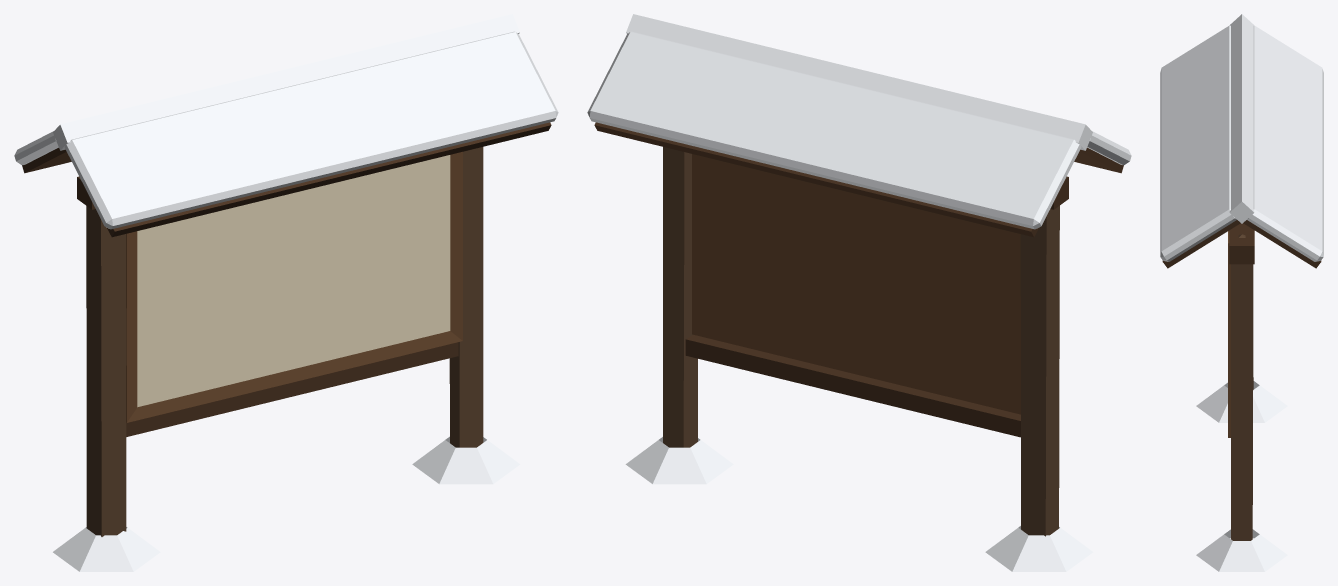
File: trail-map-kiosk.glb
3 views of the same model, side by side, from view 1: azimuth 30°, elevation 25°; view 2: azimuth 150°, elevation 25°; view 3: azimuth 270°, elevation 25° (orthographic). The views are drawn at different scales.
Parts seen in each view (by area): view 1: trail-map-kiosk; view 2: trail-map-kiosk; view 3: trail-map-kiosk.
Boxes of the visible parts, <box> form: trail-map-kiosk: <box>14,14,558,571</box>; trail-map-kiosk: <box>587,14,1131,571</box>; trail-map-kiosk: <box>1160,14,1323,571</box>.
Bounding box in the file's own units: 3.47 × 3.22 × 1.28.
